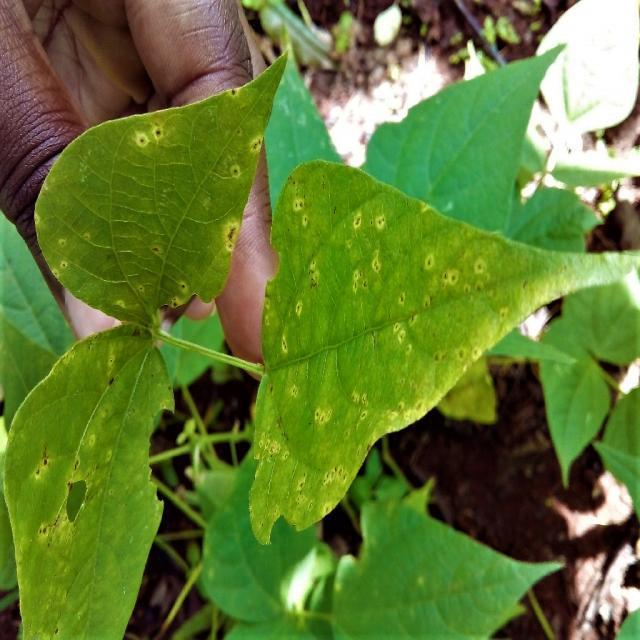mozaik: (260, 172, 607, 515)
